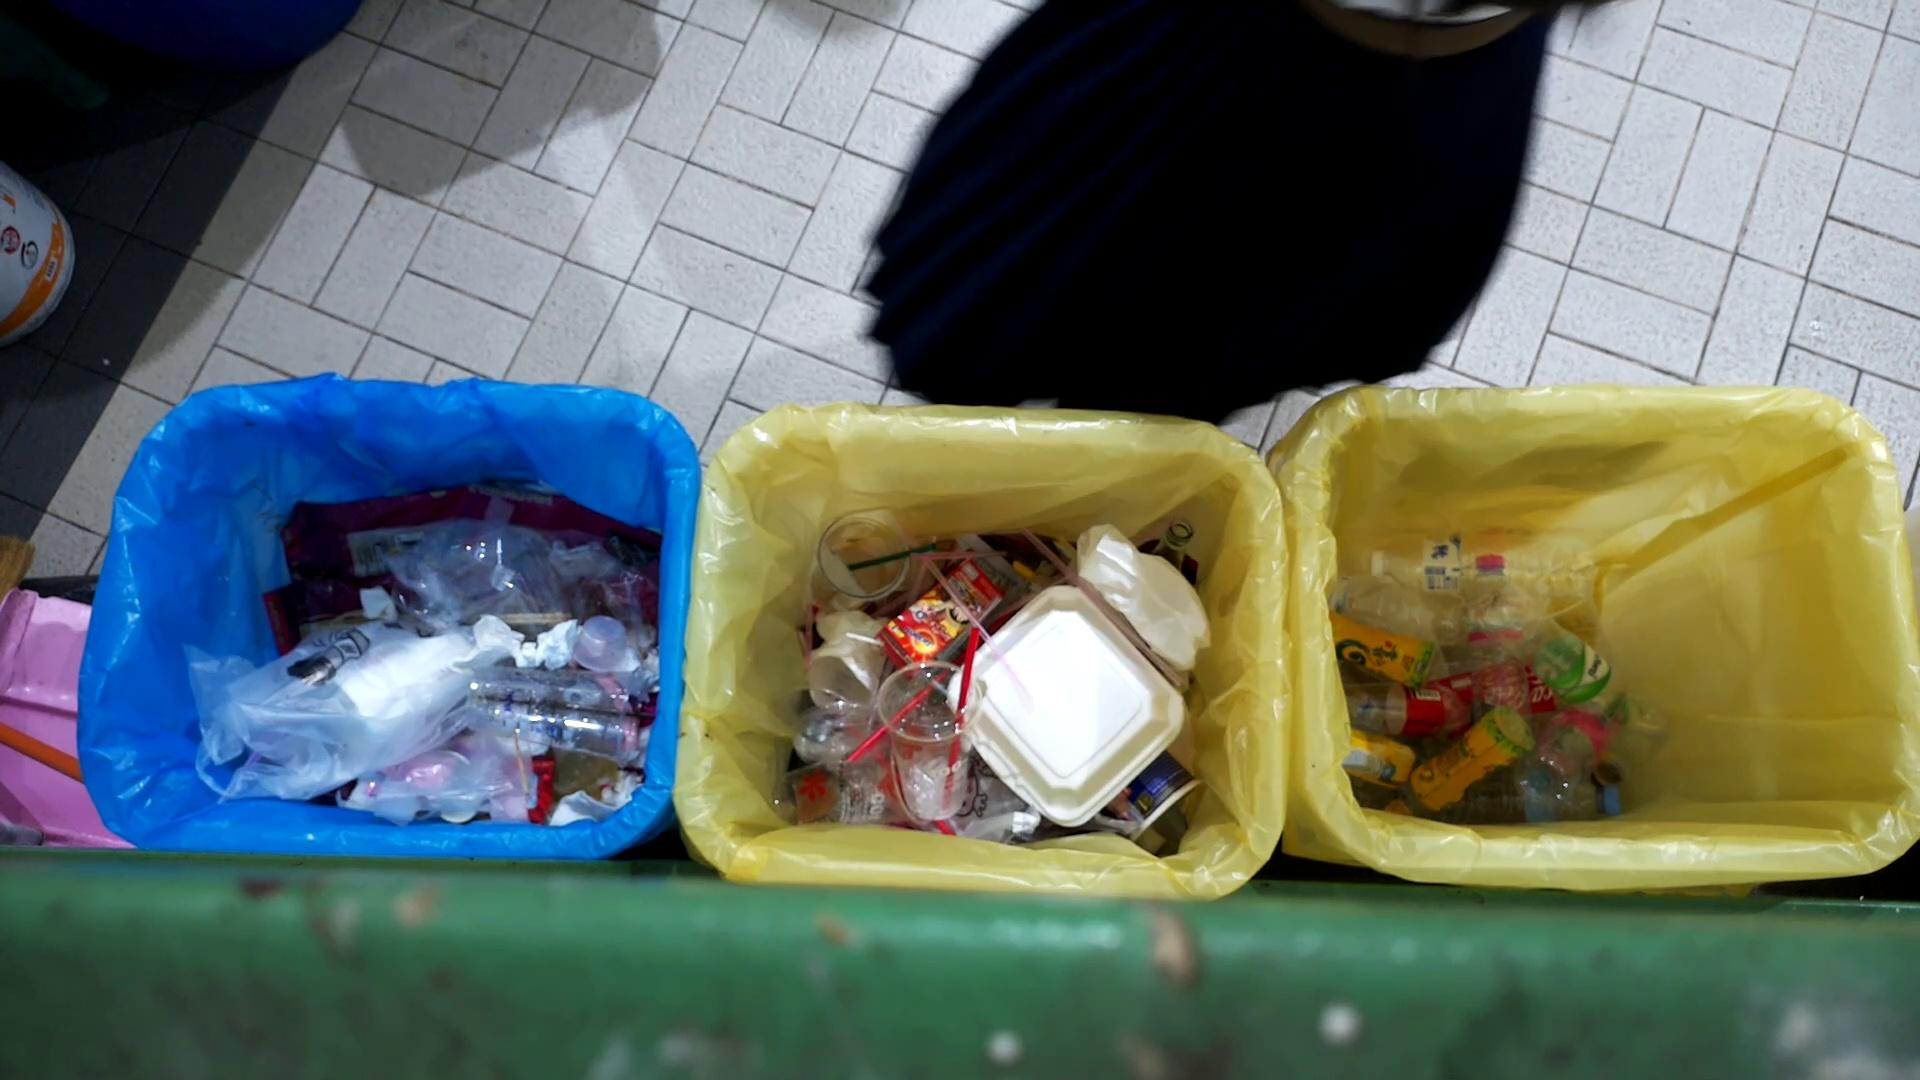filled plastic bag: (360, 498, 607, 683)
food container: (952, 589, 1192, 828), (568, 612, 630, 669)
milk carton: (881, 554, 1002, 671)
plastic bag: (198, 622, 502, 791), (386, 737, 530, 835)
plastic bottle: (1448, 576, 1643, 721), (1365, 533, 1604, 600), (1398, 709, 1536, 814), (1324, 611, 1437, 690), (1344, 682, 1460, 737), (1345, 727, 1439, 793)
plastic cup: (462, 640, 650, 767), (775, 719, 928, 835), (877, 663, 981, 823), (814, 502, 887, 597), (786, 699, 870, 767)
straw: (916, 546, 1033, 700), (827, 653, 965, 779), (945, 626, 986, 728), (843, 535, 949, 572)
tissue paper: (1083, 531, 1209, 683), (804, 611, 893, 715), (543, 781, 636, 832), (462, 611, 526, 666), (527, 607, 580, 673), (353, 583, 402, 626)
